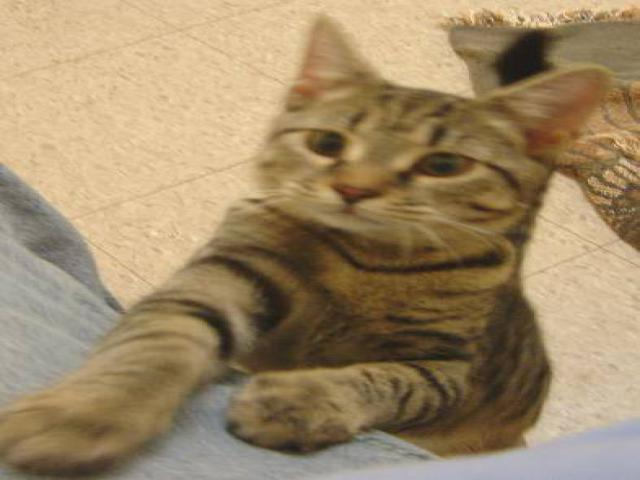cat: (1, 4, 621, 476)
